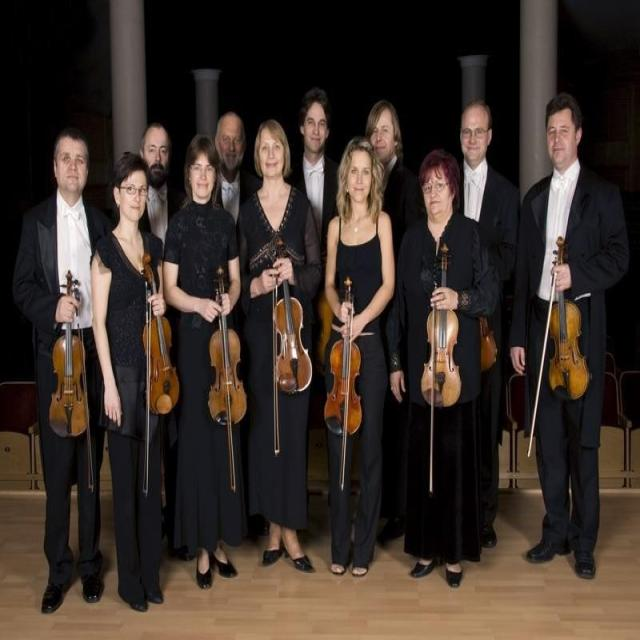violin: (545, 234, 592, 402), (47, 267, 91, 439), (206, 268, 252, 428), (321, 277, 366, 439), (139, 251, 182, 413), (270, 236, 314, 394), (421, 244, 462, 411)
